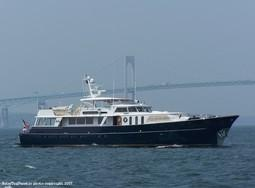yacht: (17, 70, 241, 148)
